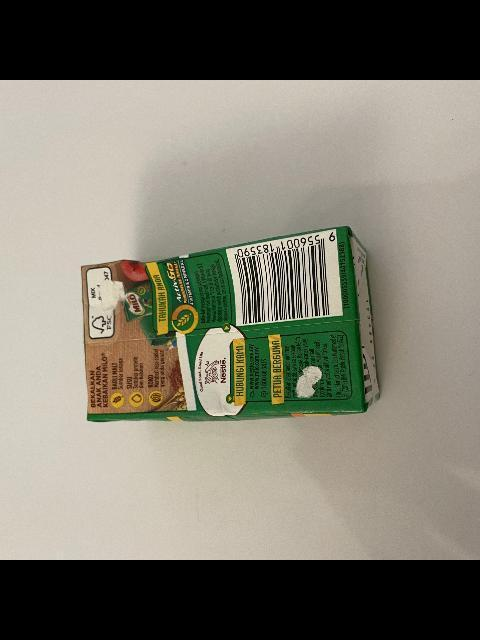drinkpack: (79, 225, 382, 425)
